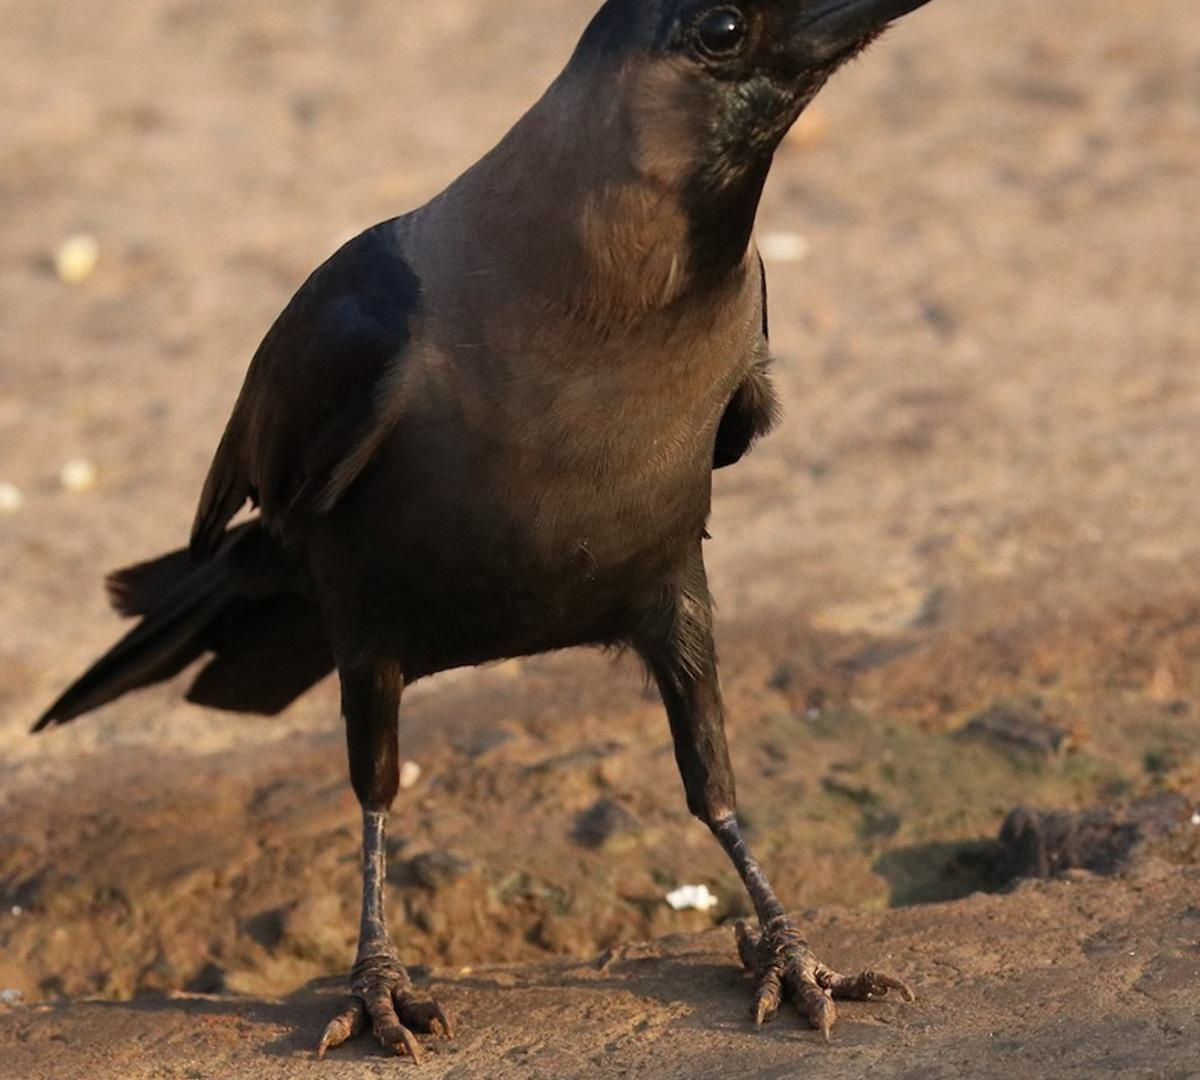crow: (115, 5, 968, 1047)
